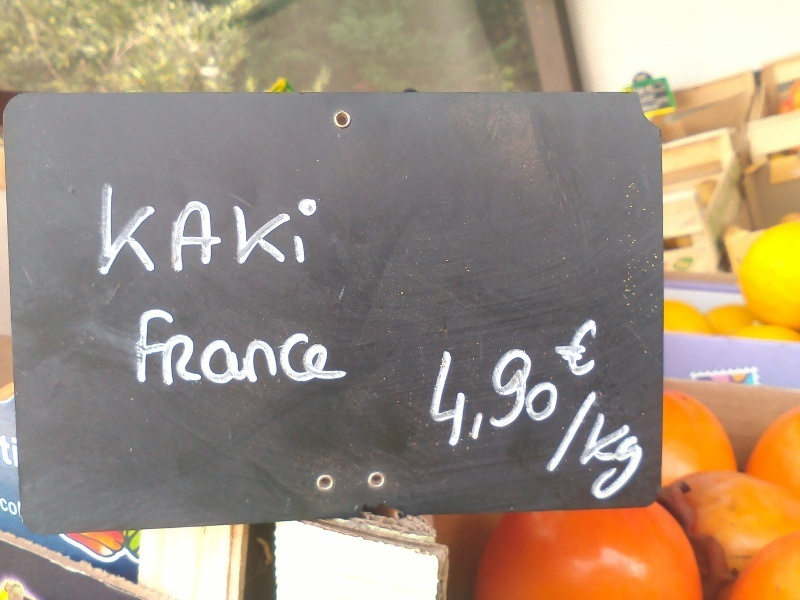text: (433, 316, 448, 458), (449, 316, 464, 458), (465, 316, 480, 458), (481, 316, 496, 458), (497, 316, 512, 458), (513, 316, 528, 458), (529, 316, 544, 458), (545, 316, 560, 458), (561, 316, 576, 458), (577, 316, 592, 458), (593, 316, 604, 458), (305, 182, 321, 277), (113, 182, 128, 277), (129, 182, 144, 277), (145, 182, 160, 277), (161, 182, 176, 277), (177, 182, 192, 277), (193, 182, 208, 277), (209, 182, 224, 277), (225, 182, 240, 277), (241, 182, 256, 277), (257, 182, 272, 277), (273, 182, 288, 277), (289, 182, 304, 277), (593, 408, 608, 503), (609, 408, 624, 503), (625, 408, 640, 503), (98, 182, 112, 277), (145, 304, 160, 389), (161, 304, 176, 389), (177, 304, 192, 389), (193, 304, 208, 389), (209, 304, 224, 389), (225, 304, 240, 389), (241, 304, 256, 389), (257, 304, 272, 389), (273, 304, 288, 389), (289, 304, 304, 389), (305, 304, 320, 389), (321, 304, 336, 389), (545, 389, 560, 474), (561, 389, 576, 474), (577, 389, 592, 474), (581, 408, 592, 503), (337, 304, 349, 389), (593, 389, 605, 474), (134, 304, 144, 389), (641, 408, 649, 503), (1, 435, 16, 468), (429, 316, 432, 458), (540, 389, 544, 474), (1, 497, 16, 517), (17, 435, 19, 468), (17, 497, 18, 517)
